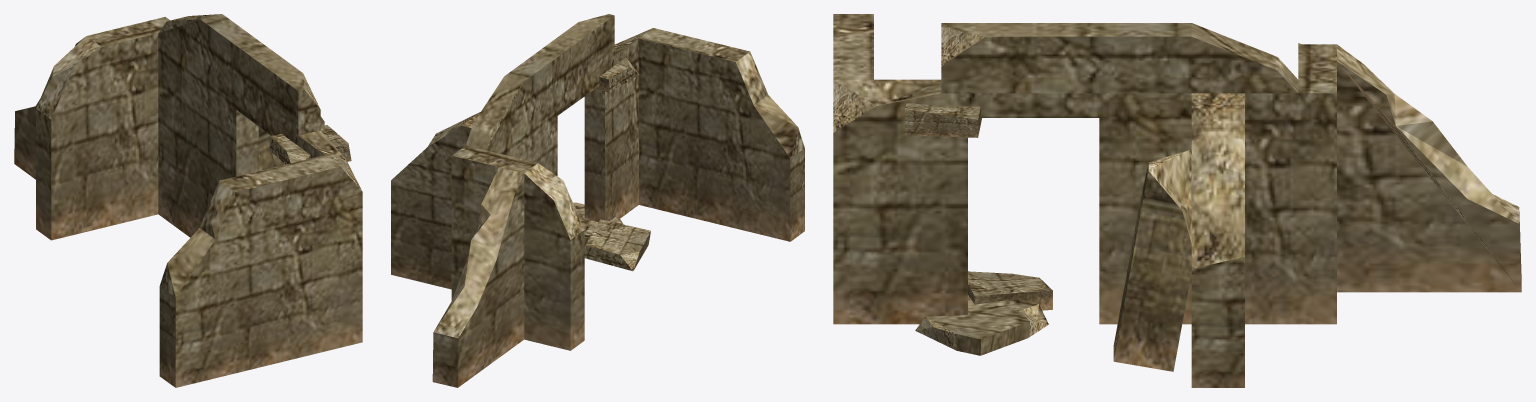
The picture shows the model from 3 angles, left to right: view 1: azimuth 30°, elevation 25°; view 2: azimuth 150°, elevation 25°; view 3: azimuth 270°, elevation 25°; orthographic projection. The views are drawn at different scales.
Visible parts, largest first — view 1: a37; view 2: a37; view 3: a37.
Part boxes in pixels (x1,y1,x2,y2): a37: (14,14,362,387); a37: (391,14,804,387); a37: (833,14,1521,387).
Size of the model in its own units: 1497 by 1176 by 2412.
